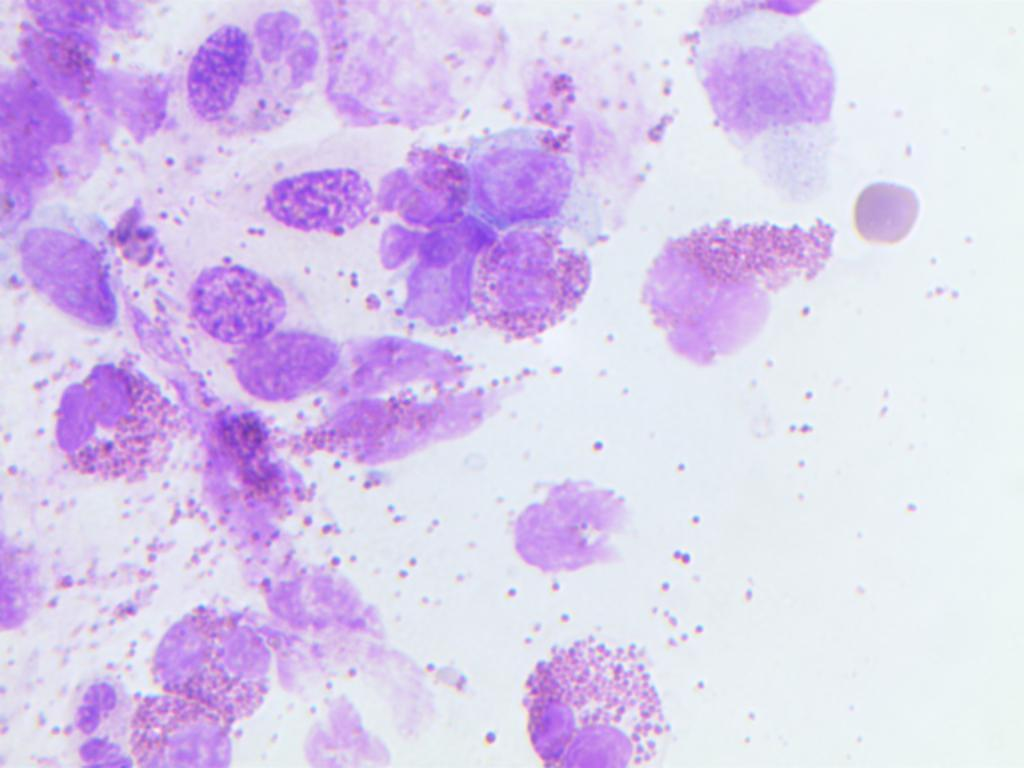artifact: (700, 22, 842, 157), (311, 380, 509, 473), (502, 476, 654, 590), (9, 220, 131, 333), (348, 326, 492, 398), (388, 223, 468, 333), (848, 179, 941, 252)
eosinophil: (626, 206, 851, 364), (516, 620, 681, 768), (179, 393, 322, 547), (37, 354, 185, 493), (137, 575, 285, 714), (118, 694, 253, 768)
epithelial: (231, 135, 372, 268), (468, 221, 597, 337), (455, 135, 585, 231), (171, 259, 309, 343), (212, 324, 350, 408), (369, 127, 479, 230), (168, 19, 254, 134)
neutrophil: (57, 661, 145, 768), (248, 14, 324, 136)
